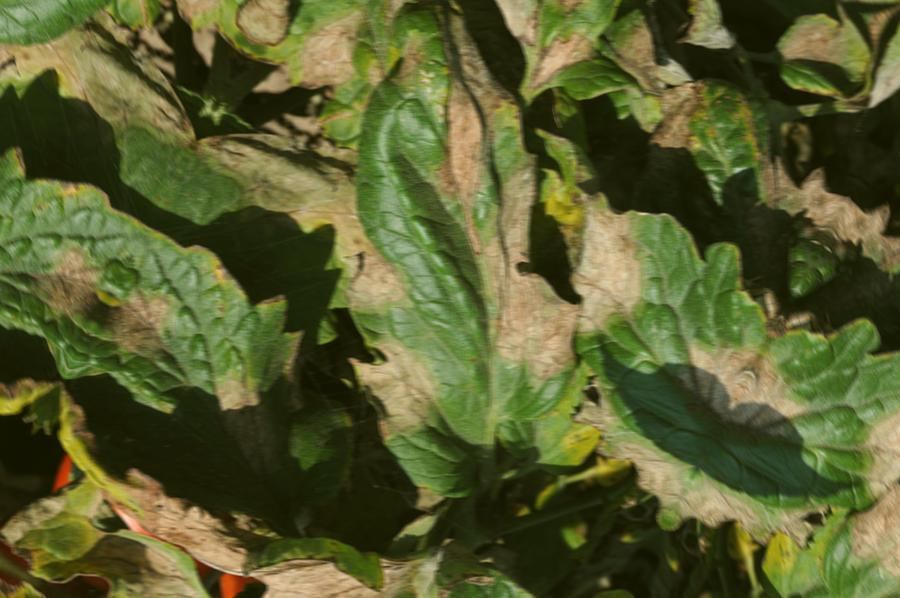Tomato leaf late blight: (176, 0, 700, 535), (451, 154, 797, 525), (41, 208, 384, 544), (130, 424, 506, 598), (299, 0, 688, 129), (334, 516, 619, 598)
